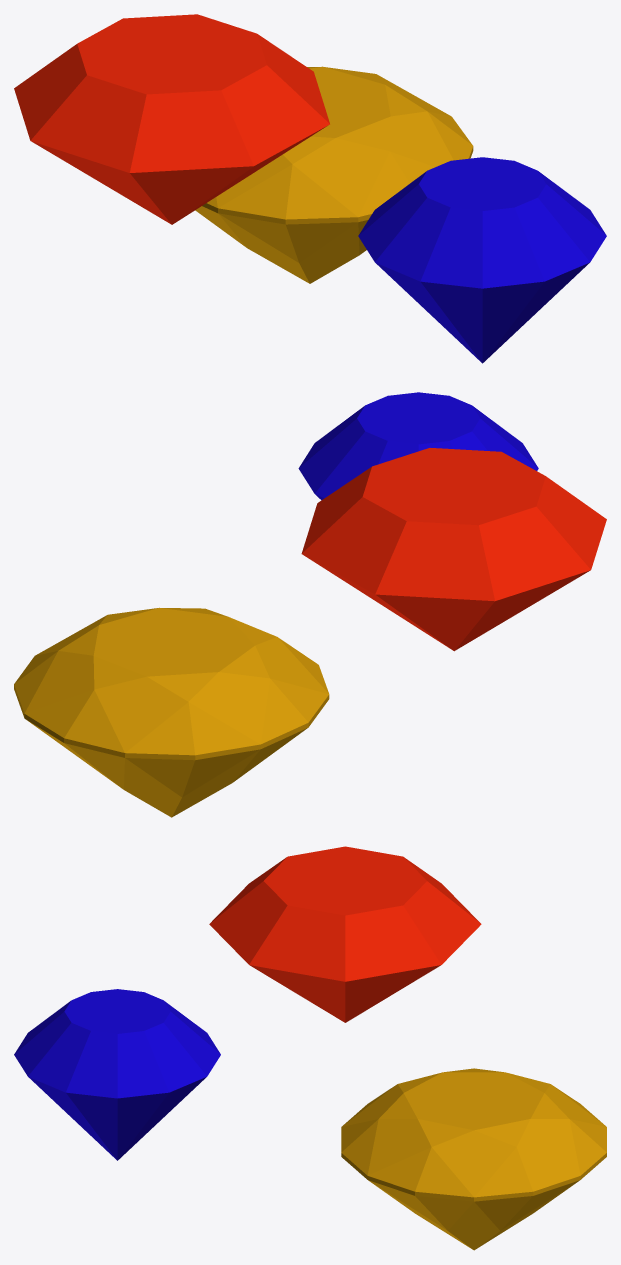
File: diamond.fbx
The picture shows the model from 3 angles, top to bottom: view 1: azimuth 30°, elevation 25°; view 2: azimuth 150°, elevation 25°; view 3: azimuth 270°, elevation 25°; orthographic projection. The views are drawn at different scales.
Visible parts, largest first — view 1: Diamond.001, Diamond.005, dobj; view 2: dobj, Diamond.001, Diamond.005; view 3: dobj, Diamond.001, Diamond.005.
Part boxes in pixels (x1,y1,x2,y2): Diamond.001: [14, 14, 329, 224]; Diamond.005: [358, 157, 606, 363]; dobj: [195, 66, 473, 283]; dobj: [14, 607, 329, 817]; Diamond.001: [301, 448, 606, 651]; Diamond.005: [298, 392, 538, 500]; dobj: [341, 1068, 606, 1250]; Diamond.001: [209, 846, 481, 1022]; Diamond.005: [14, 989, 220, 1160].
Bounding box in the file's own units: 352 × 228 × 435.
